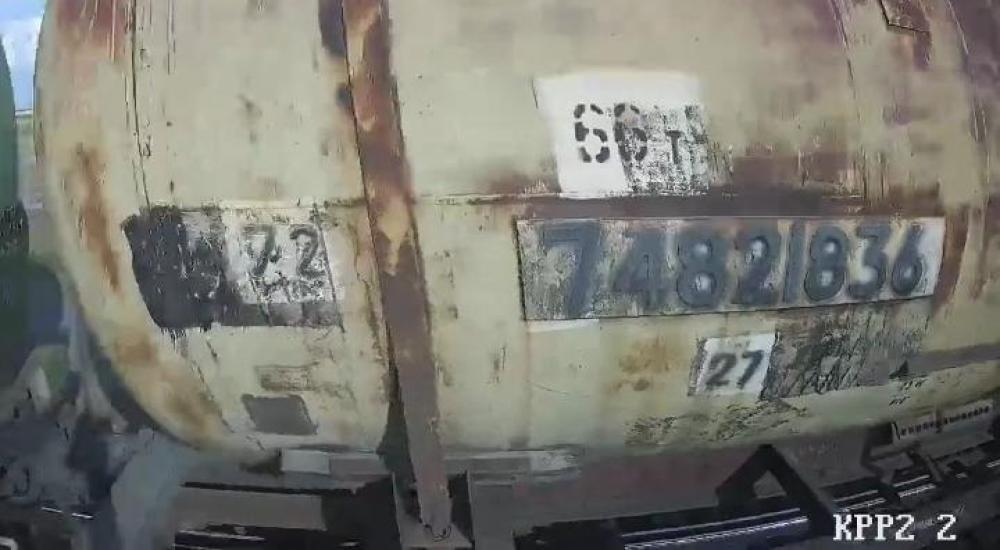Wagon-number: (536, 218, 939, 315)
